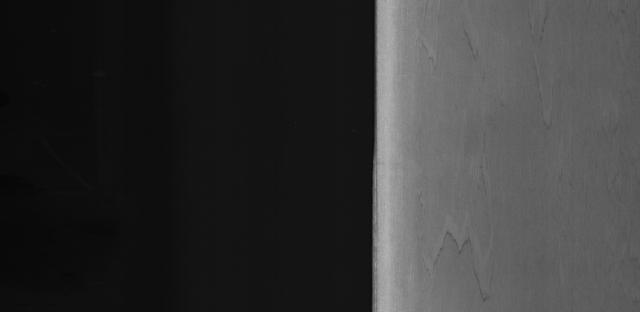silk_spot: (410, 0, 564, 300)
